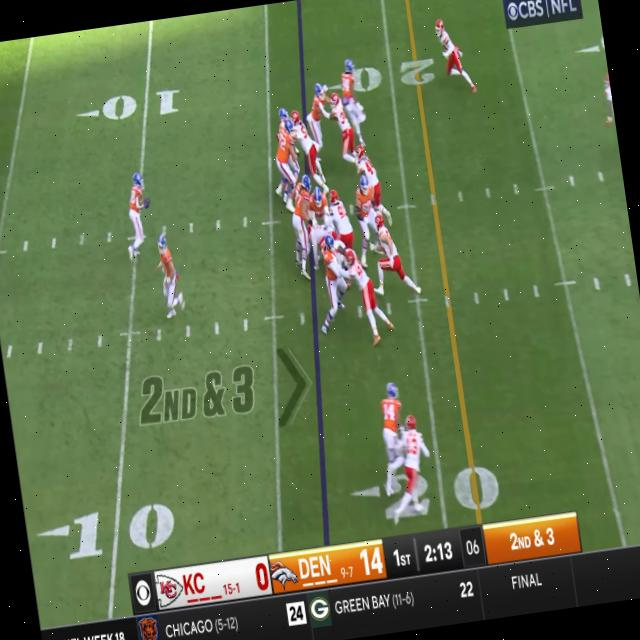Player: (344, 246, 396, 350), (390, 414, 434, 520), (308, 233, 352, 335), (372, 382, 412, 493), (284, 177, 320, 284), (116, 171, 152, 259), (370, 212, 406, 297), (433, 16, 469, 94), (153, 232, 184, 320), (327, 90, 360, 170), (338, 58, 367, 146), (304, 82, 336, 154), (348, 172, 378, 242), (326, 187, 357, 251), (289, 106, 318, 174), (270, 120, 300, 185), (305, 186, 331, 226), (354, 143, 378, 186)
